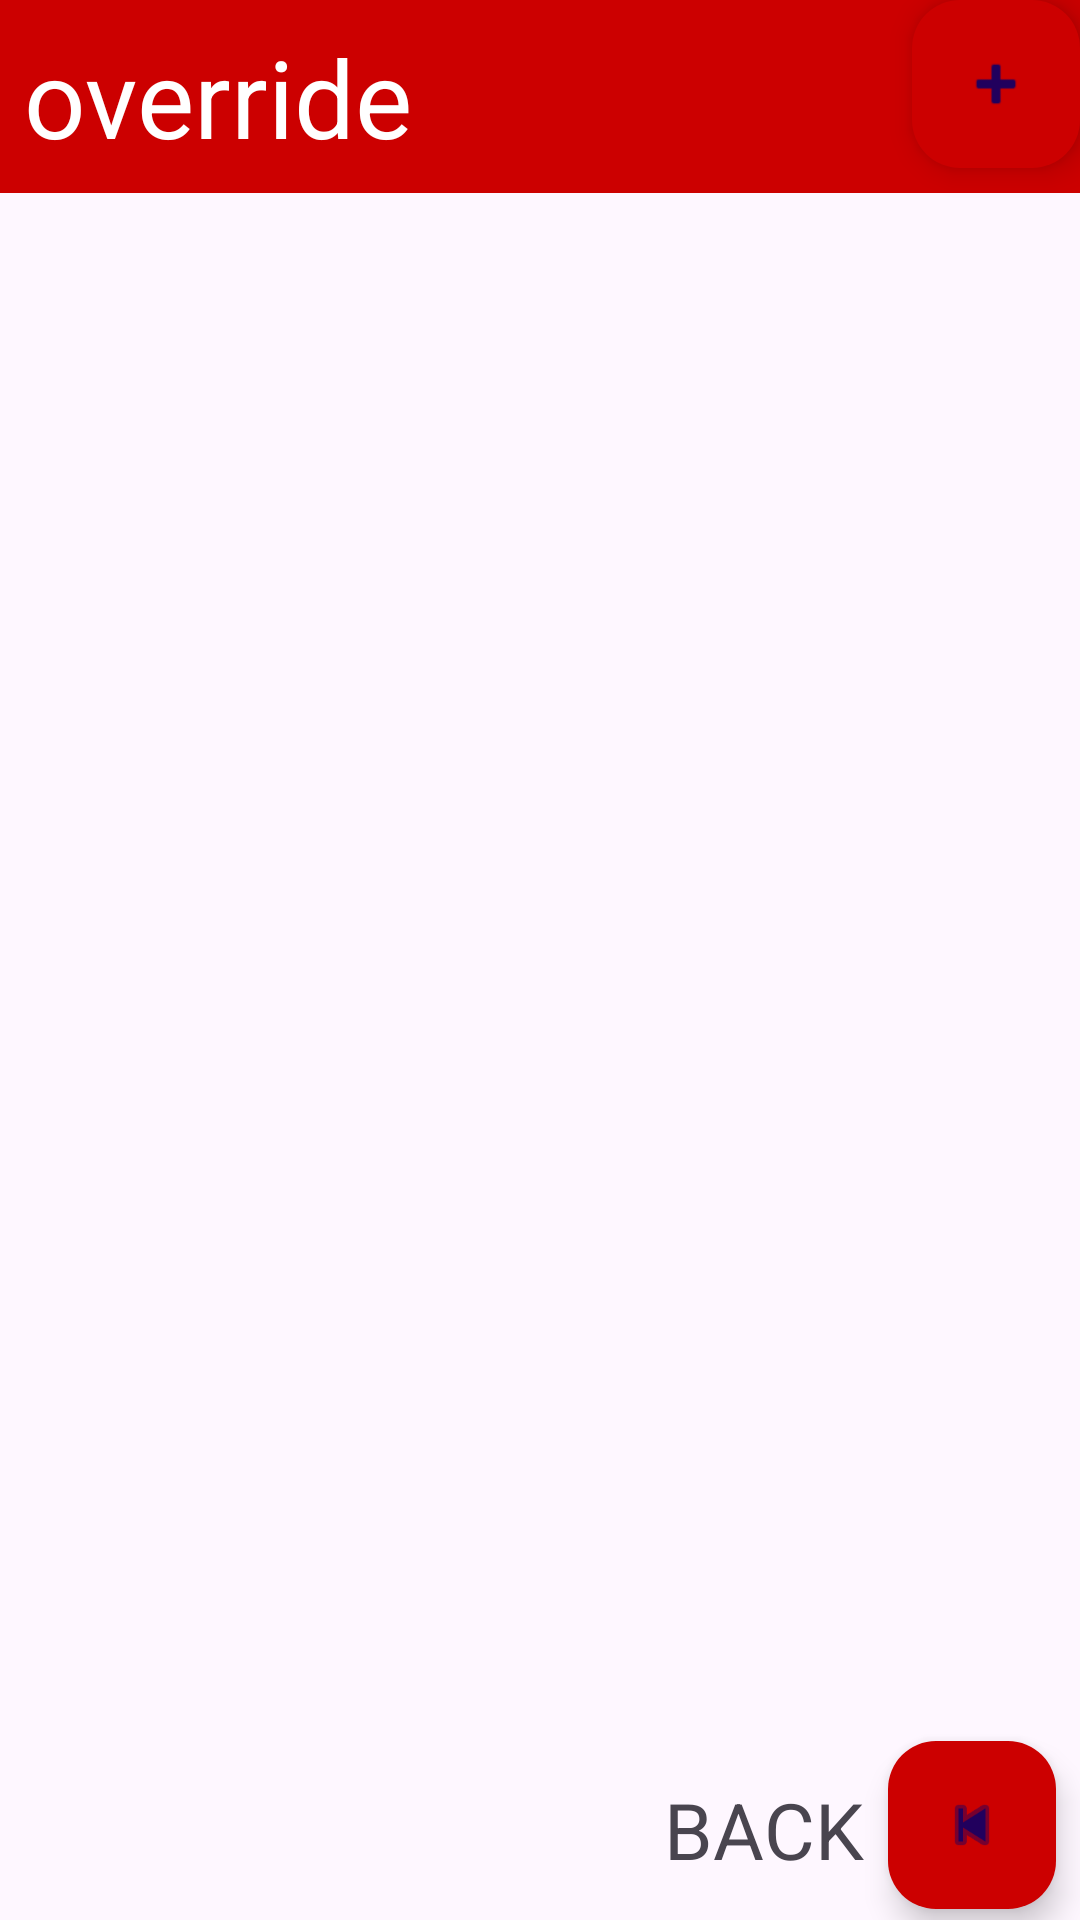

Named icons in this screenshot (1080 x 1920) and their centers, [x,y]:
add: [1028,91]
